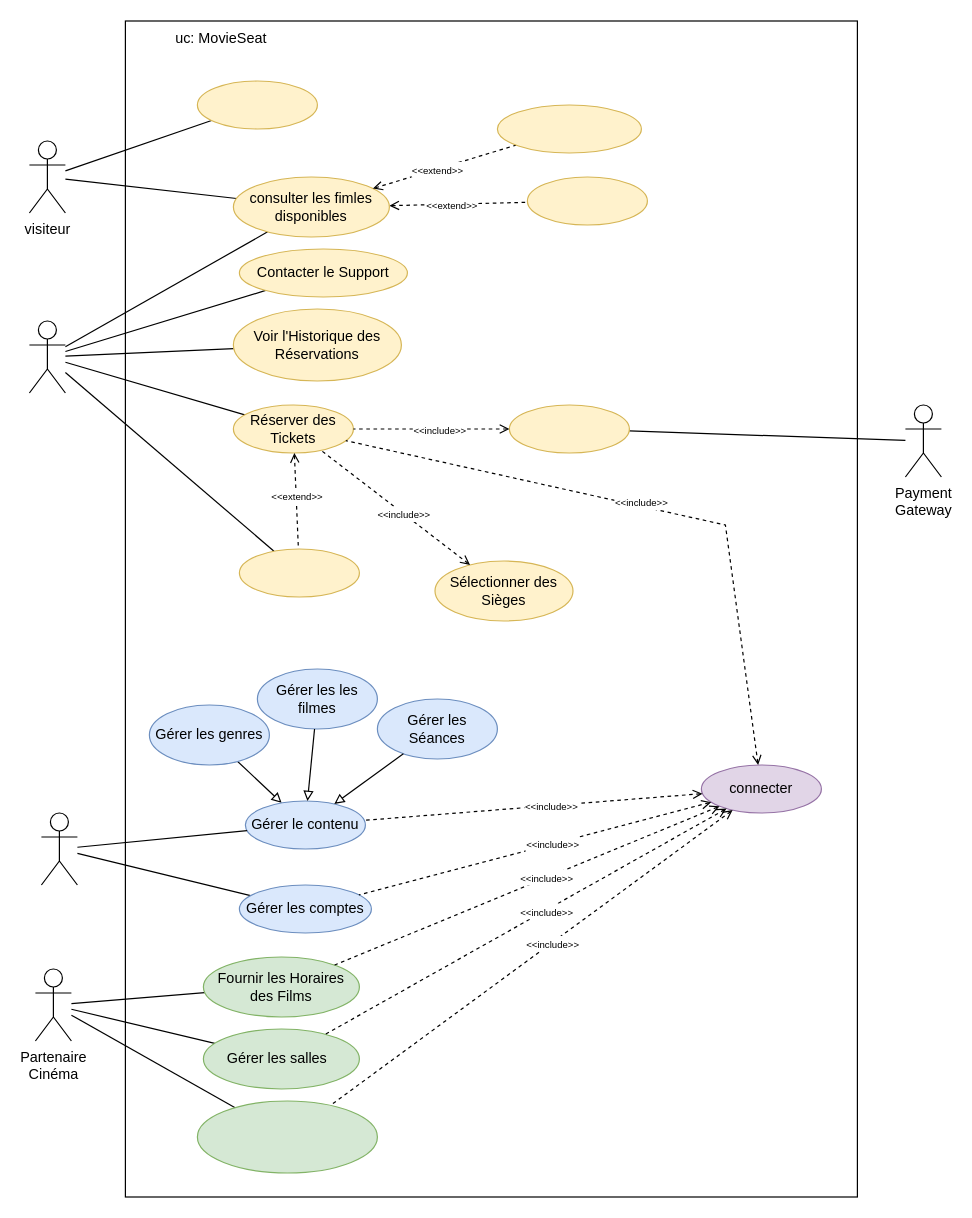
Image size: 972x1218. Some labels were removed from this diagram. The box of each missing label's shape, as (x1, y1, x2, y2) in pixels:
admin: (40, 812, 77, 885)
annuler la réservation: (238, 548, 359, 597)
Effectuer le Paiement: (508, 404, 629, 453)
Mettre à jour la Disponibilité des Sièges: (196, 1100, 377, 1173)
recherche: (526, 176, 647, 225)
register: (196, 80, 317, 129)
user: (28, 320, 65, 393)
Voir Détails du Film: (496, 104, 641, 153)
